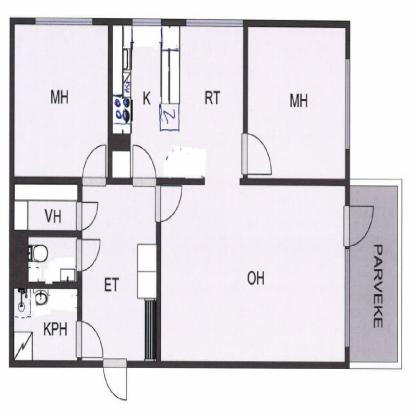door: (241, 134, 275, 177), (342, 205, 376, 246), (103, 358, 130, 403), (131, 144, 158, 187), (74, 322, 104, 360), (155, 186, 183, 224), (82, 143, 107, 185), (76, 237, 101, 274), (76, 201, 100, 229)
window: (344, 249, 350, 348), (35, 16, 93, 26), (186, 18, 242, 28), (345, 59, 350, 149), (133, 19, 161, 27)
zone: (160, 183, 344, 364), (112, 25, 243, 179), (247, 25, 345, 178), (14, 23, 108, 176), (82, 186, 156, 359), (350, 183, 397, 361), (16, 288, 78, 360), (14, 184, 80, 230), (28, 237, 76, 281)
